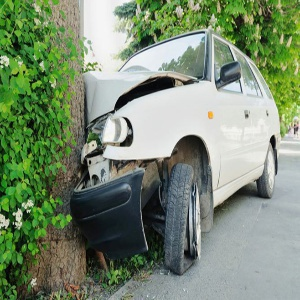bumper: (84, 150, 163, 261)
